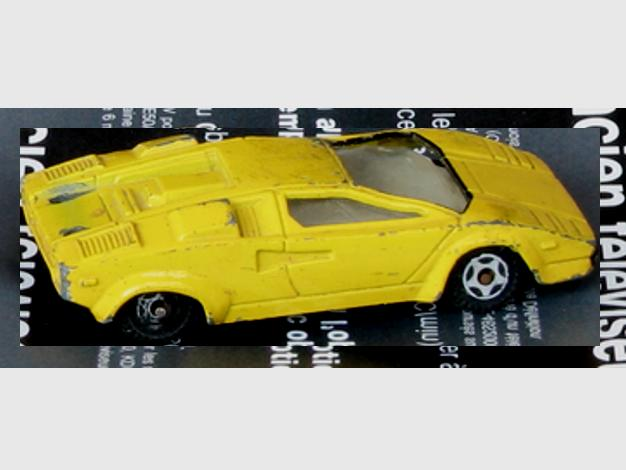toy-car: (20, 128, 600, 346)
